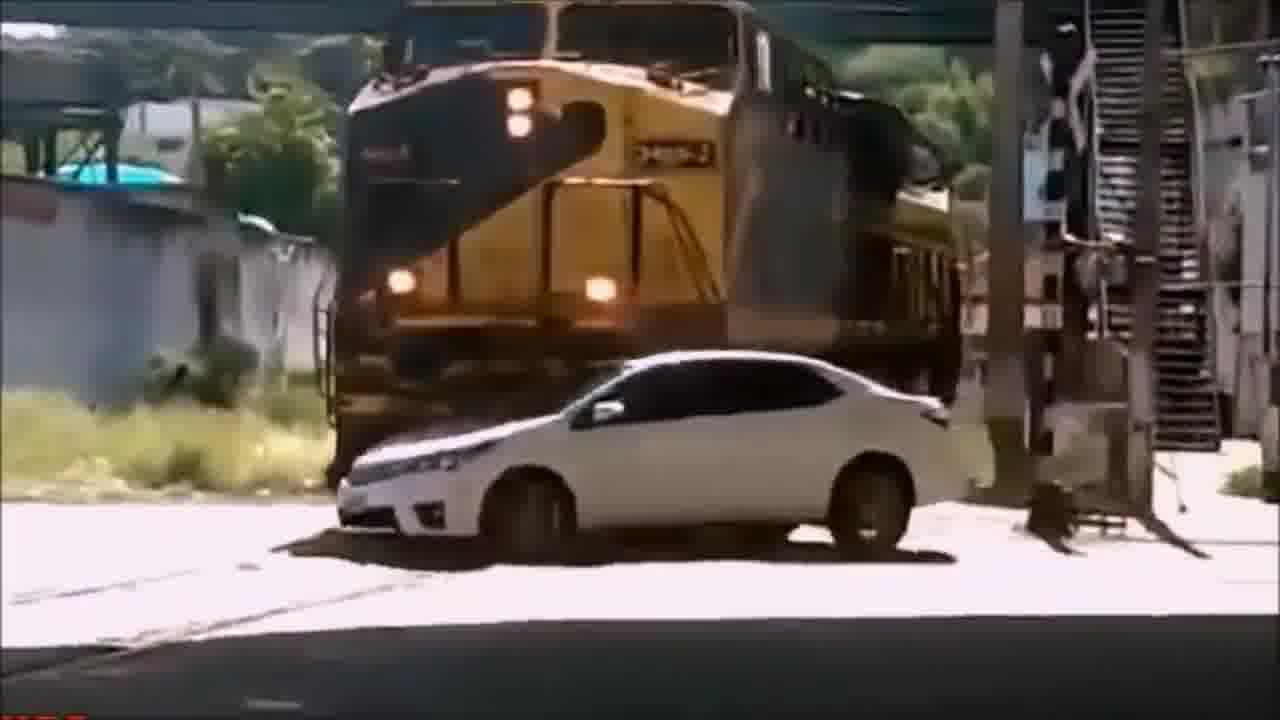crossing railway track: (321, 347, 982, 571)
